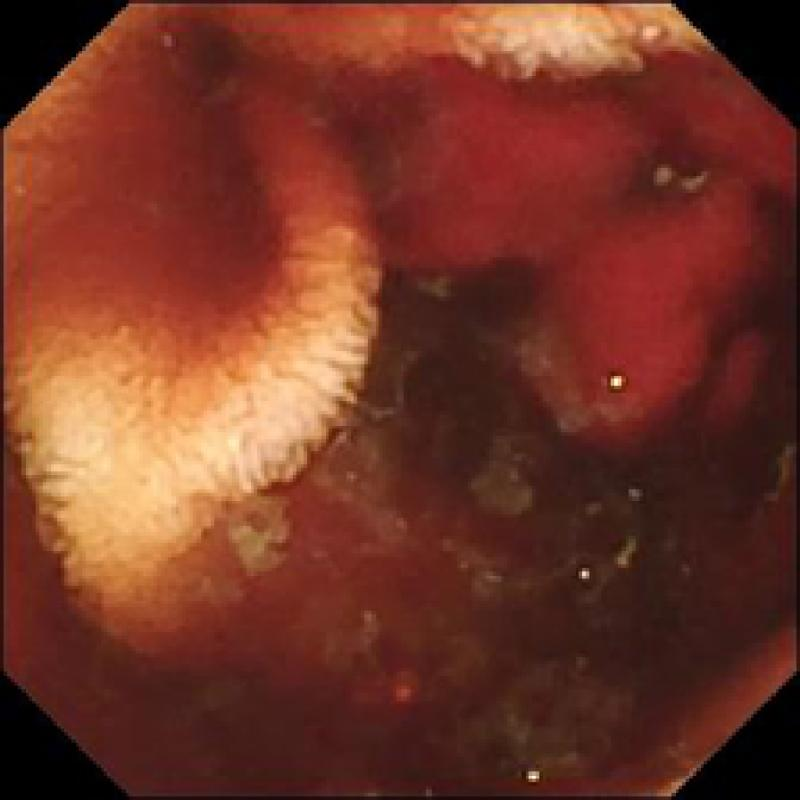bleeding: (339, 46, 800, 468)
